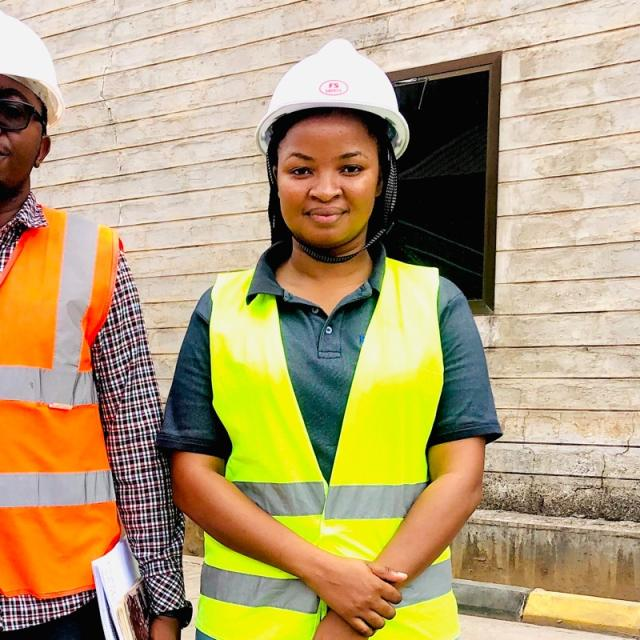helmet: (255, 35, 412, 161), (0, 5, 67, 128)
vest: (195, 253, 461, 640), (0, 197, 126, 605)
